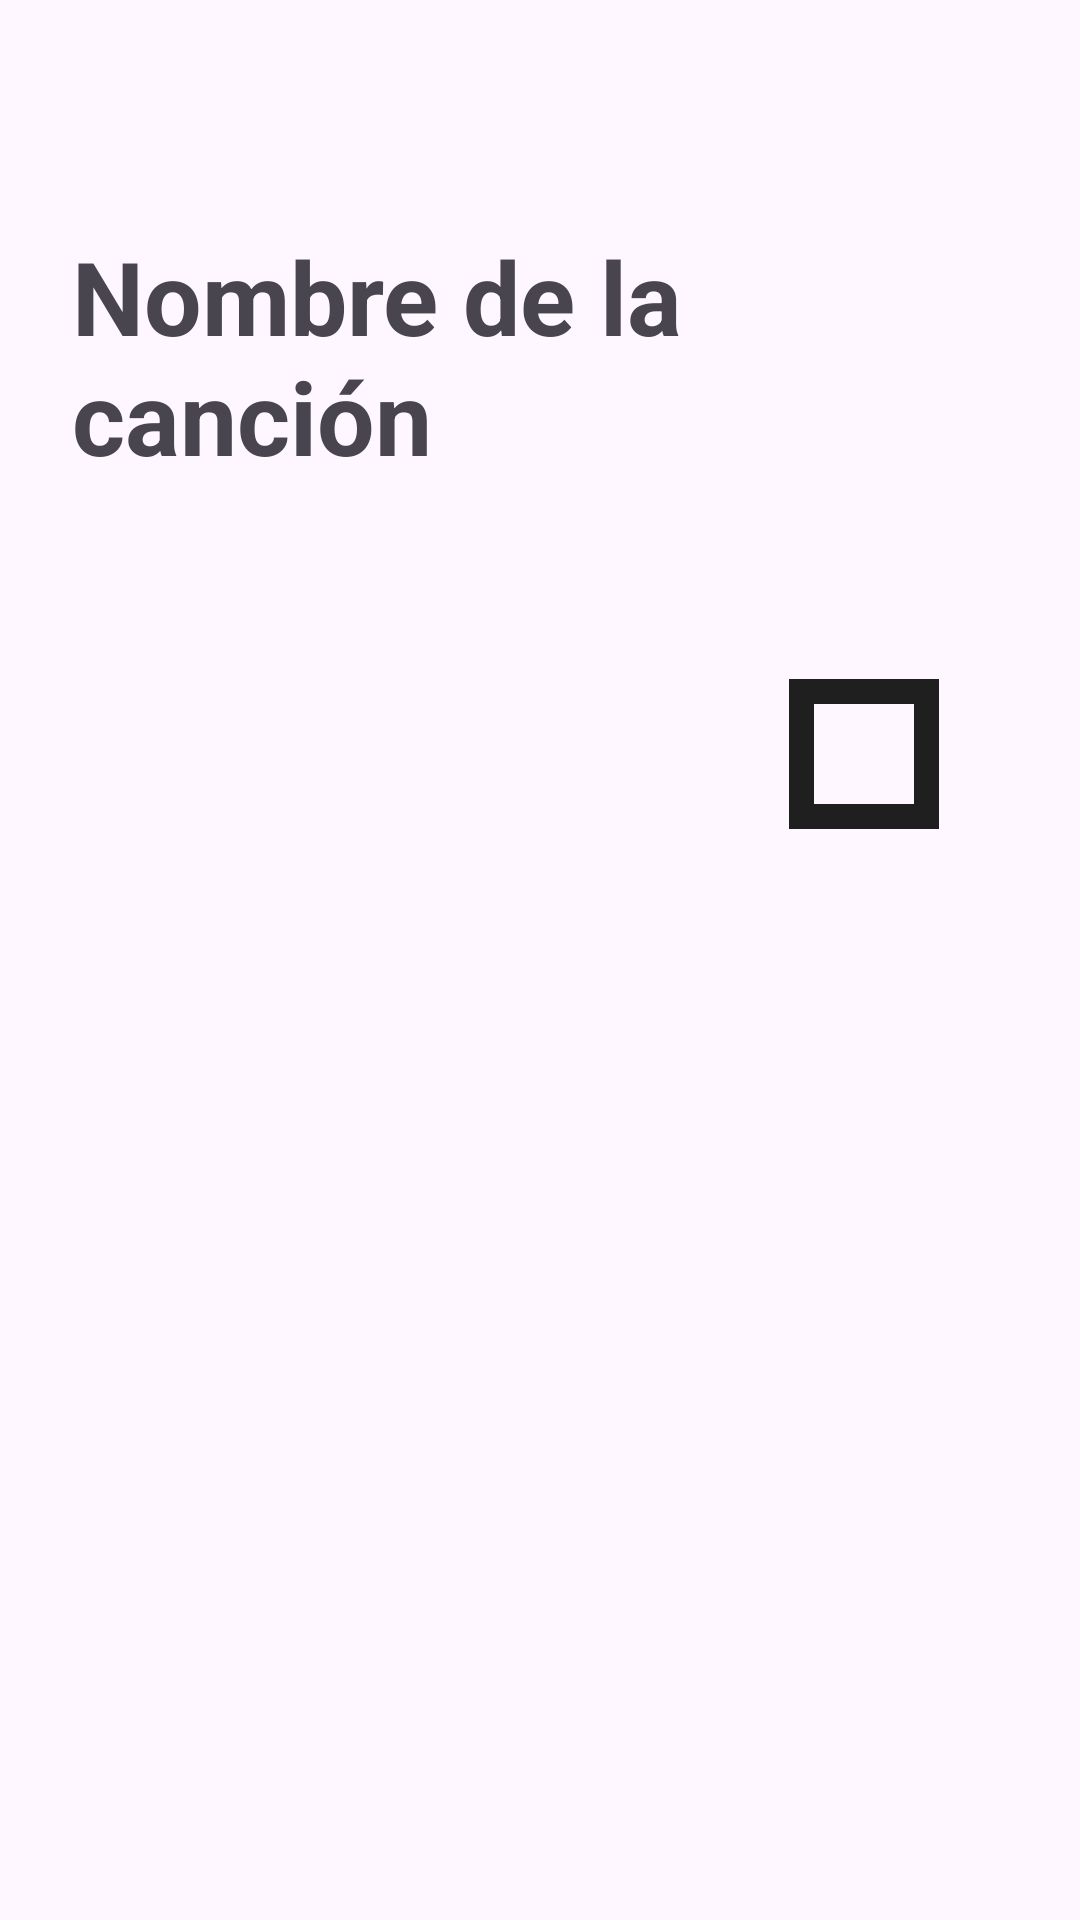

Locate icon controls on the screen. Image size 1080 × 1920, boxes as (x1, y1, x2, y2).
Stop: (789, 679, 939, 829)
